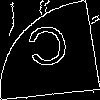C: (25, 24, 72, 75)
